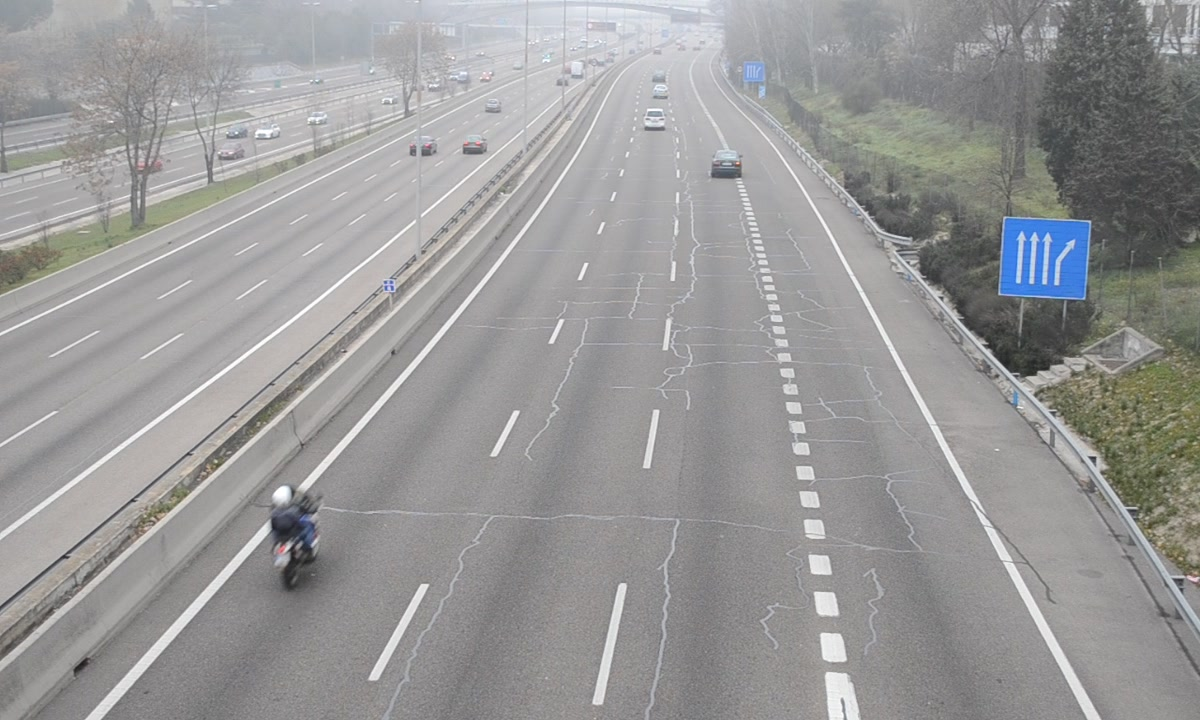car: (710, 148, 742, 178), (642, 109, 668, 132)
motorcycle: (269, 482, 325, 592)
